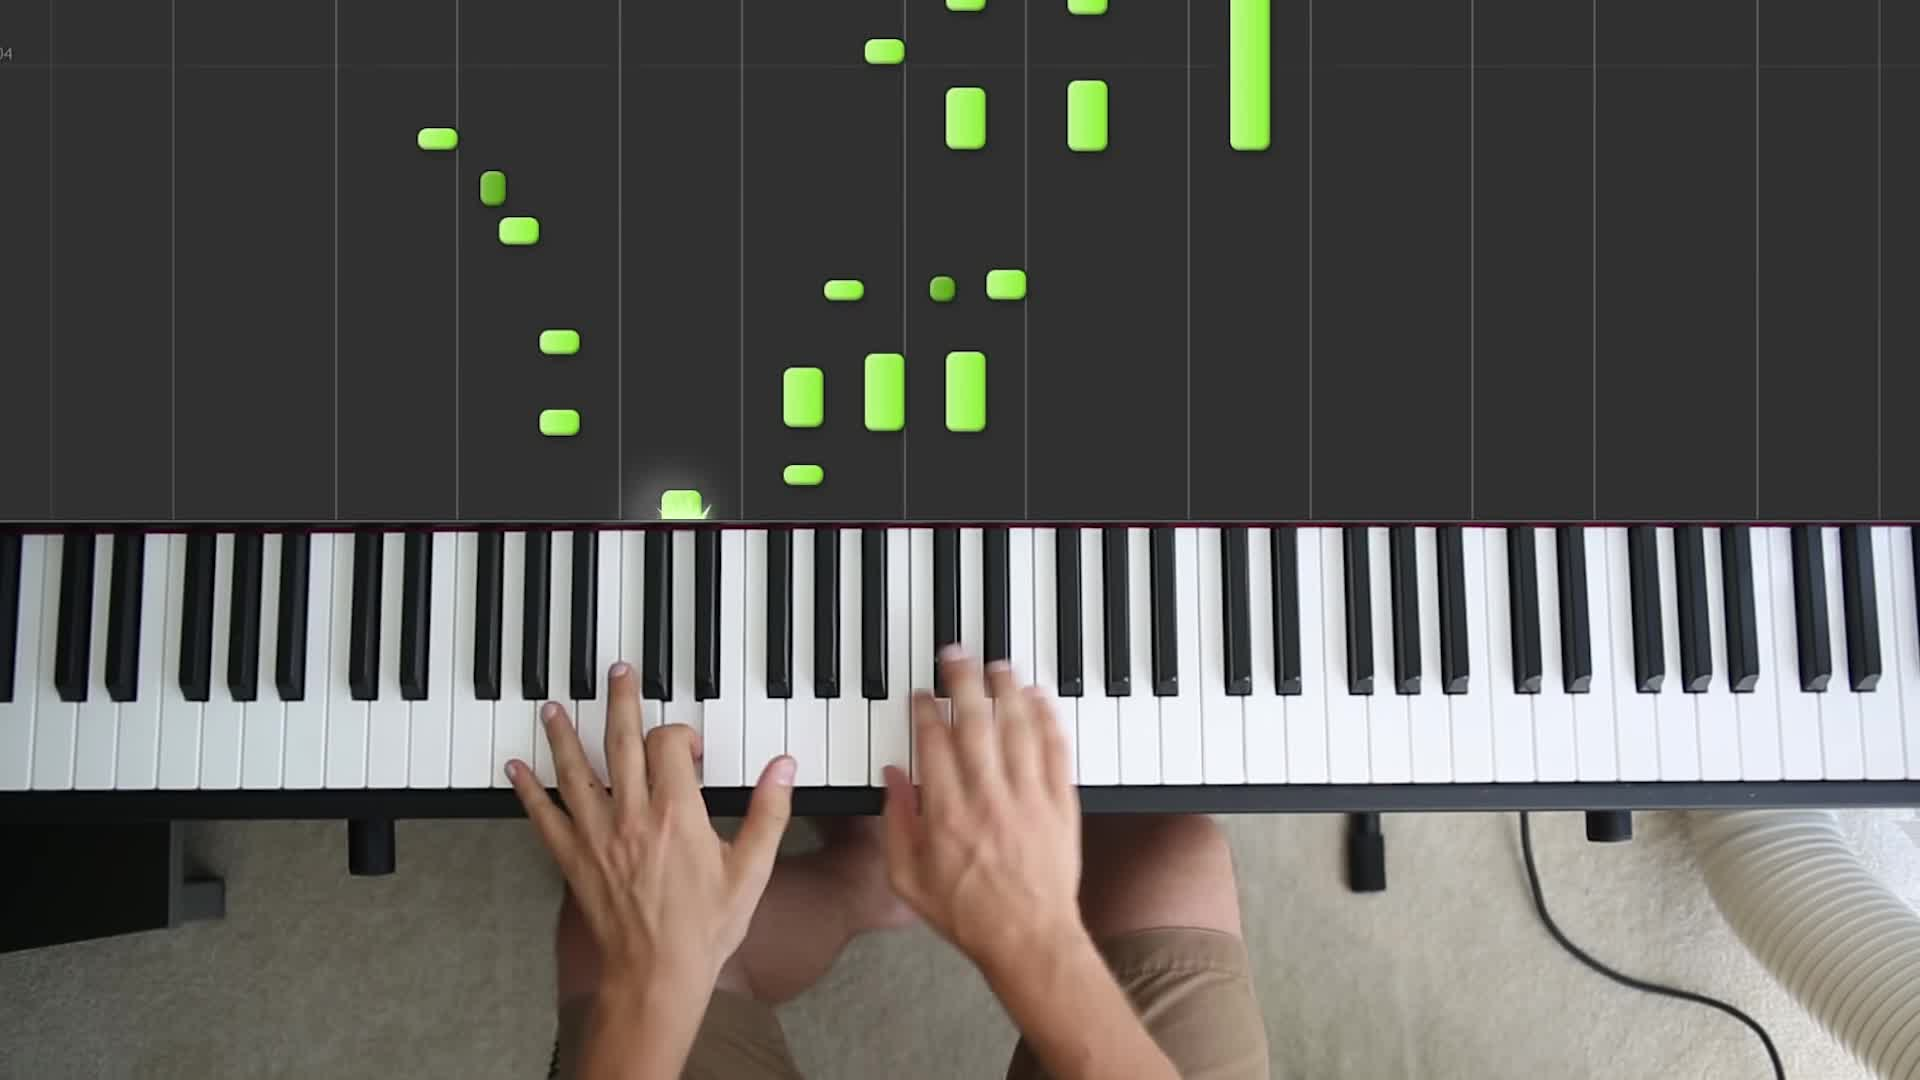left: (502, 659, 802, 977)
right: (880, 645, 1089, 948)
